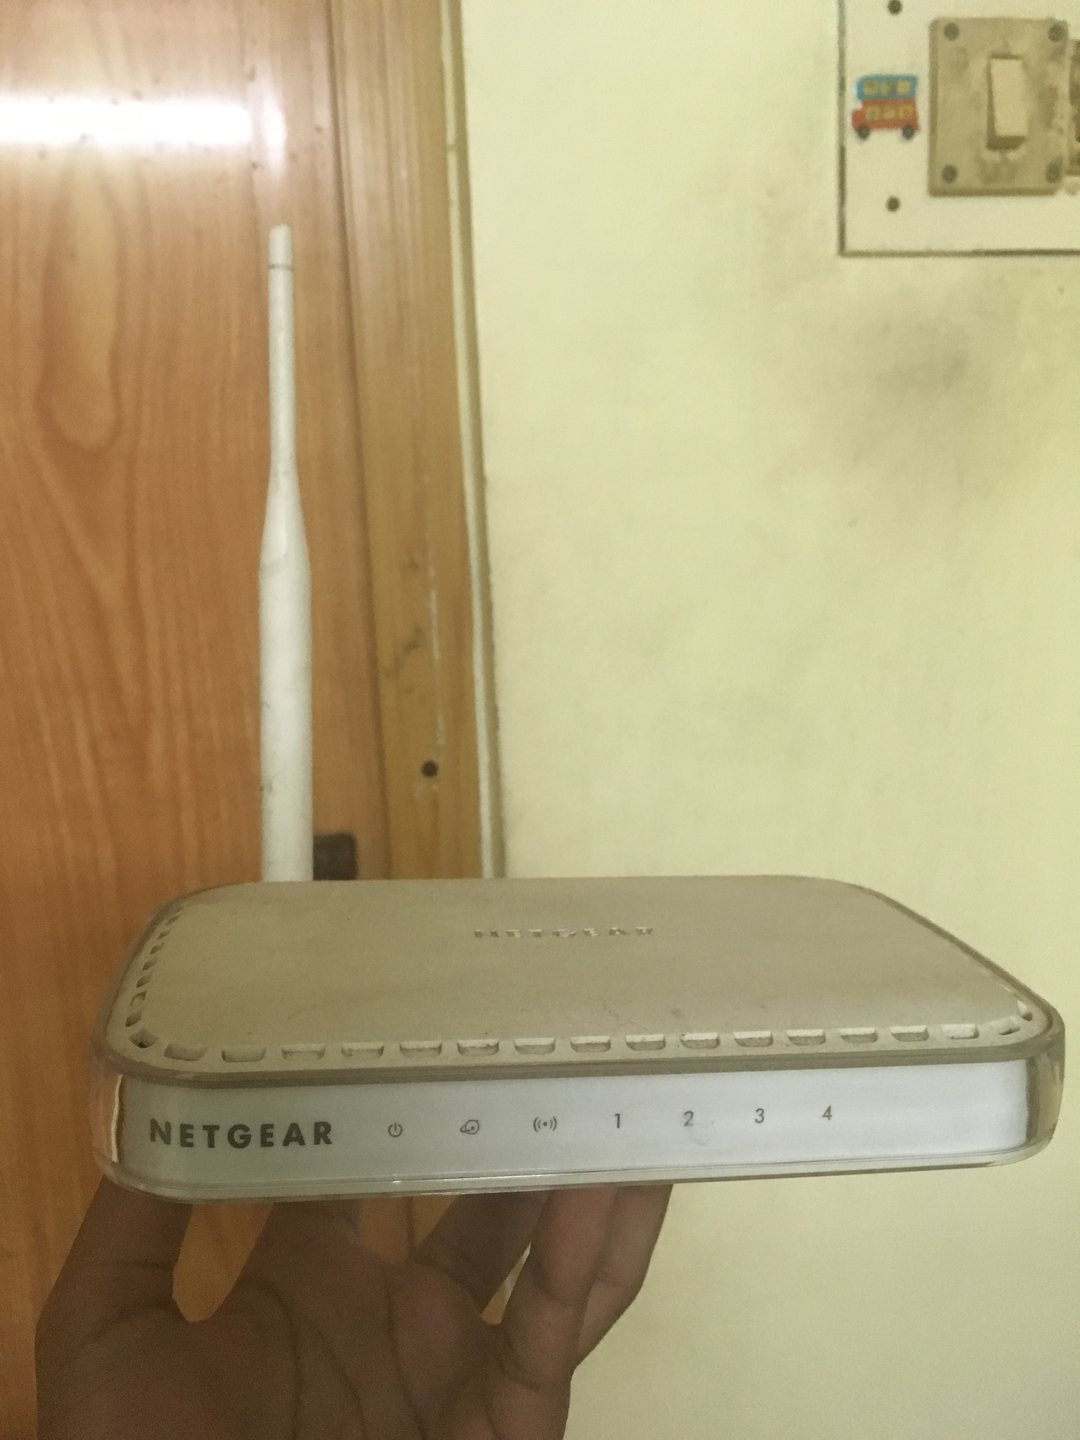NETGEAR: (137, 1109, 341, 1159)
modem: (88, 1028, 1078, 1197)
